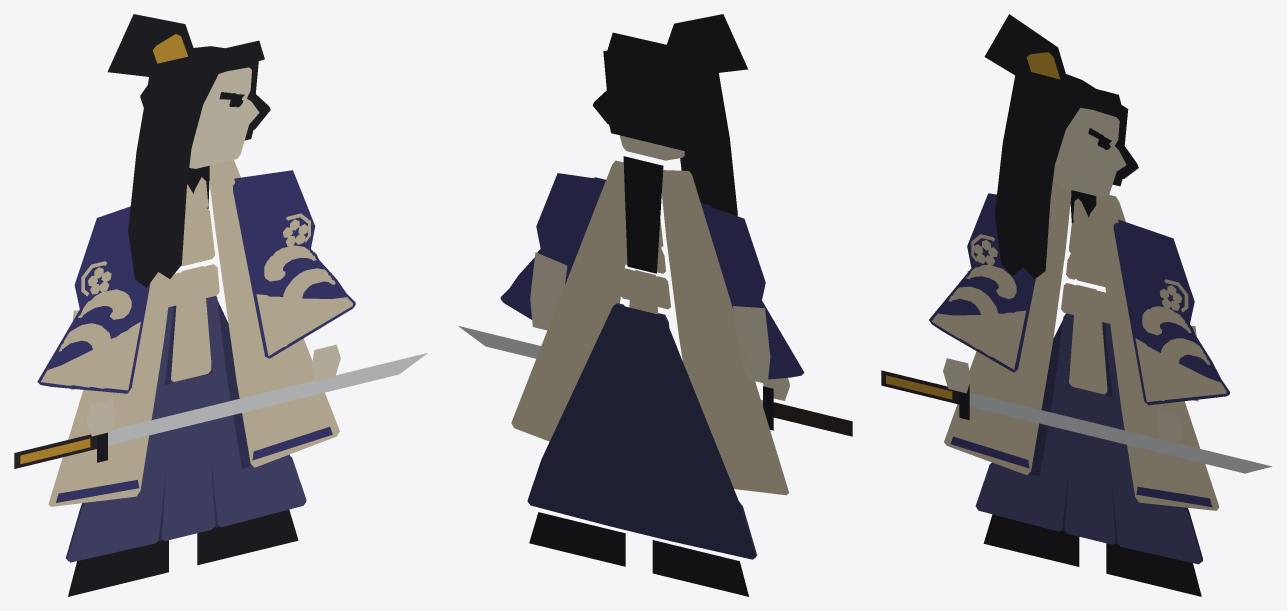
Rendered from samurai.glb.
3 views of the same model, side by side, from view 1: azimuth 30°, elevation 25°; view 2: azimuth 150°, elevation 25°; view 3: azimuth 330°, elevation 25° (orthographic). The views are drawn at different scales.
Visible parts, largest first — view 1: sumi_hair, robe_L, kami_sleeve_L, robe_R, kami_sleeve_R, hakama_L, hakama_R, sword_paper, hakama_mid, face, kami_hair, feet_L (+10 smaller); view 2: hakama_back, robe_R, kami_hair, robe_L, sumi_hair, sumi_sleeve_L, neck, sumi_sleeve_R, feet_R, feet_L, sword_paper, sumi_forearm_R (+5 smaller); view 3: sumi_hair, robe_R, robe_L, kami_sleeve_L, kami_sleeve_R, hakama_R, hakama_L, sword_paper, hakama_mid, face, kami_hair, feet_R (+10 smaller).
Part boxes in pixels (<box>): sumi_hair: <box>128,40,264,287</box>; robe_L: <box>209,160,339,467</box>; kami_sleeve_L: <box>233,177,355,358</box>; robe_R: <box>48,272,171,506</box>; kami_sleeve_R: <box>37,227,150,393</box>; hakama_L: <box>203,296,306,527</box>; hakama_R: <box>67,306,174,562</box>; sword_paper: <box>14,353,427,468</box>; hakama_mid: <box>161,374,214,540</box>; face: <box>189,67,259,168</box>; kami_hair: <box>107,14,270,140</box>; feet_L: <box>197,509,298,565</box>; hakama_back: <box>527,304,755,559</box>; robe_R: <box>662,170,788,495</box>; kami_hair: <box>592,14,747,153</box>; robe_L: <box>511,160,625,441</box>; sumi_hair: <box>607,32,737,215</box>; sumi_sleeve_L: <box>536,173,605,276</box>; neck: <box>623,156,663,273</box>; sumi_sleeve_R: <box>701,204,765,308</box>; feet_R: <box>652,540,748,596</box>; feet_L: <box>529,512,625,566</box>; sword_paper: <box>458,326,852,436</box>; sumi_forearm_R: <box>733,306,770,383</box>; sumi_hair: <box>995,68,1123,279</box>; robe_R: <box>944,180,1071,474</box>; robe_L: <box>1096,195,1219,510</box>; kami_sleeve_L: <box>1113,222,1229,405</box>; kami_sleeve_R: <box>929,237,1035,372</box>; hakama_R: <box>975,313,1076,531</box>; hakama_L: <box>1104,323,1201,564</box>; sword_paper: <box>881,370,1272,473</box>; hakama_mid: <box>1065,387,1114,544</box>; face: <box>1053,107,1126,198</box>; kami_hair: <box>984,14,1138,186</box>; feet_R: <box>983,514,1079,566</box>.
Bounding box in the file's own units: 2.96 × 4 × 0.38.
